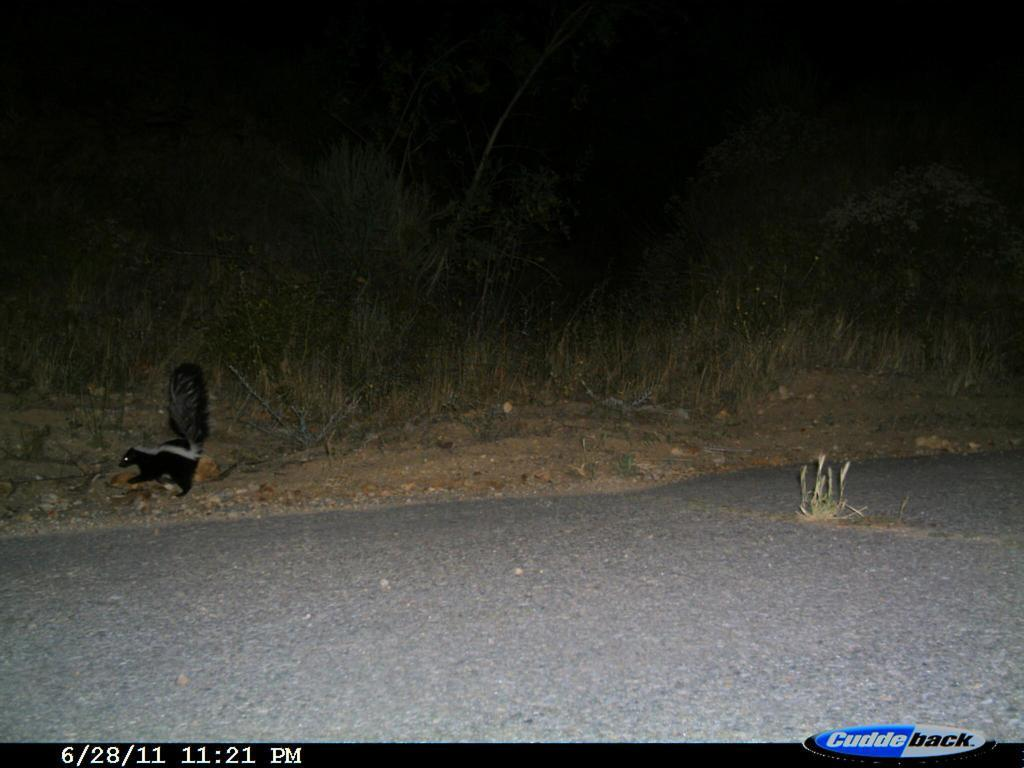skunk: (112, 354, 225, 509)
